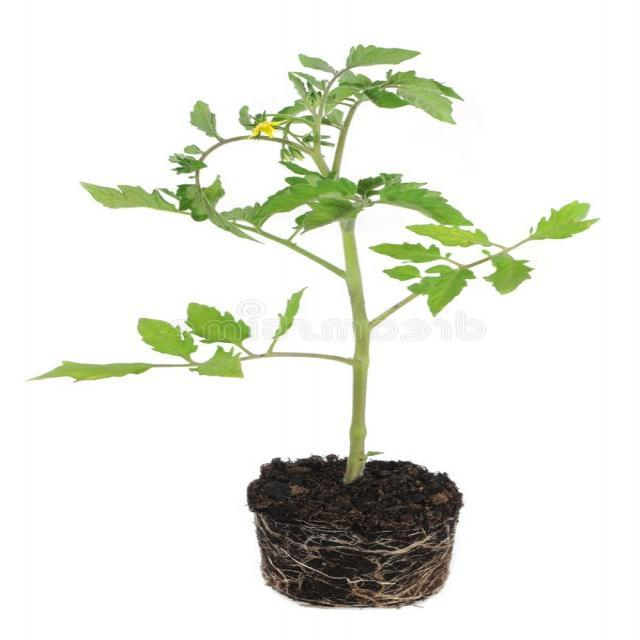tomato: (33, 44, 596, 484)
